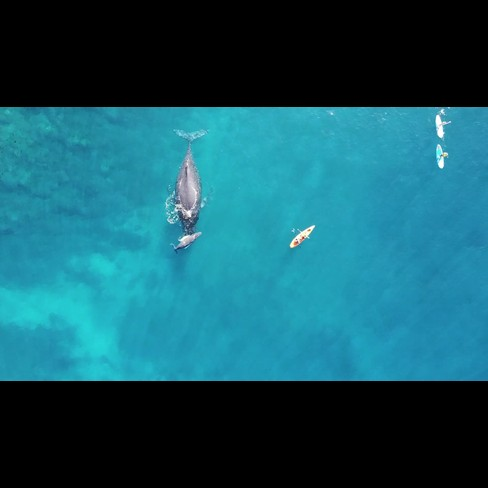boat: (285, 218, 318, 253)
hump: (160, 123, 211, 260)
